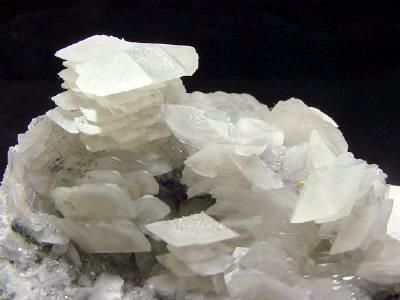calcite: (4, 35, 400, 299)
